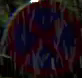No waiting: (3, 1, 78, 77)
